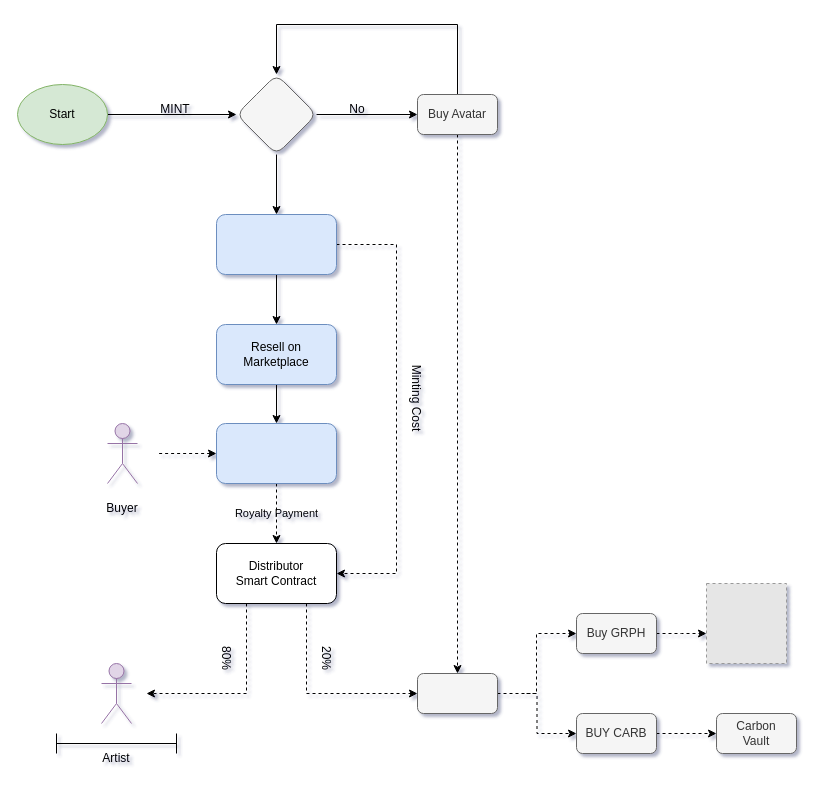
Some shapes in this 820 by 797 pixel diagram are drawn without their labels. Grey dashed boxes stand in for pictures. The box of each missing label's shape, as (x1, y1, x2, y2) in pixels:
Avatar Owner?: (236, 74, 316, 154)
BuyBack Contract: (416, 672, 498, 714)
Mint your own CryptoKiwi: (216, 214, 336, 274)
NFT Marketplaces: (216, 422, 336, 484)
